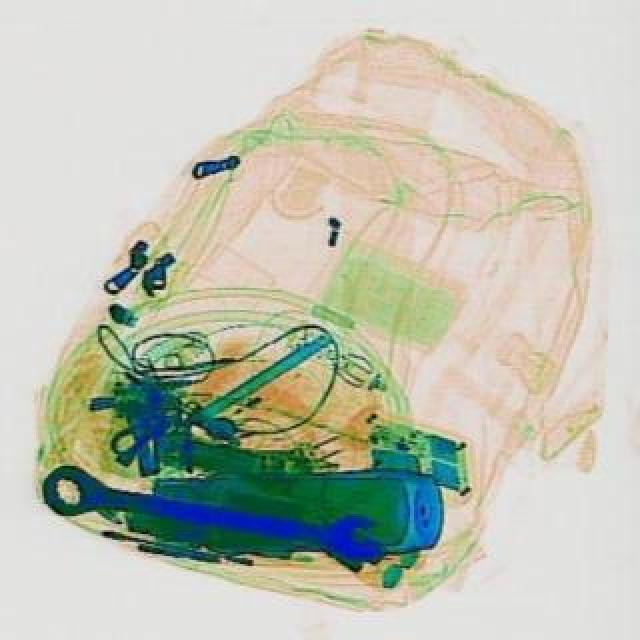scissors: (42, 460, 390, 564)
